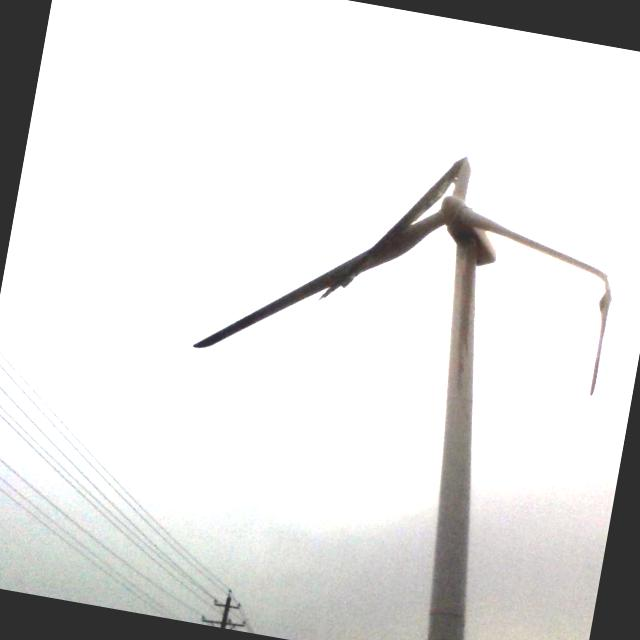crack: (314, 119, 492, 333), (558, 252, 628, 401)
